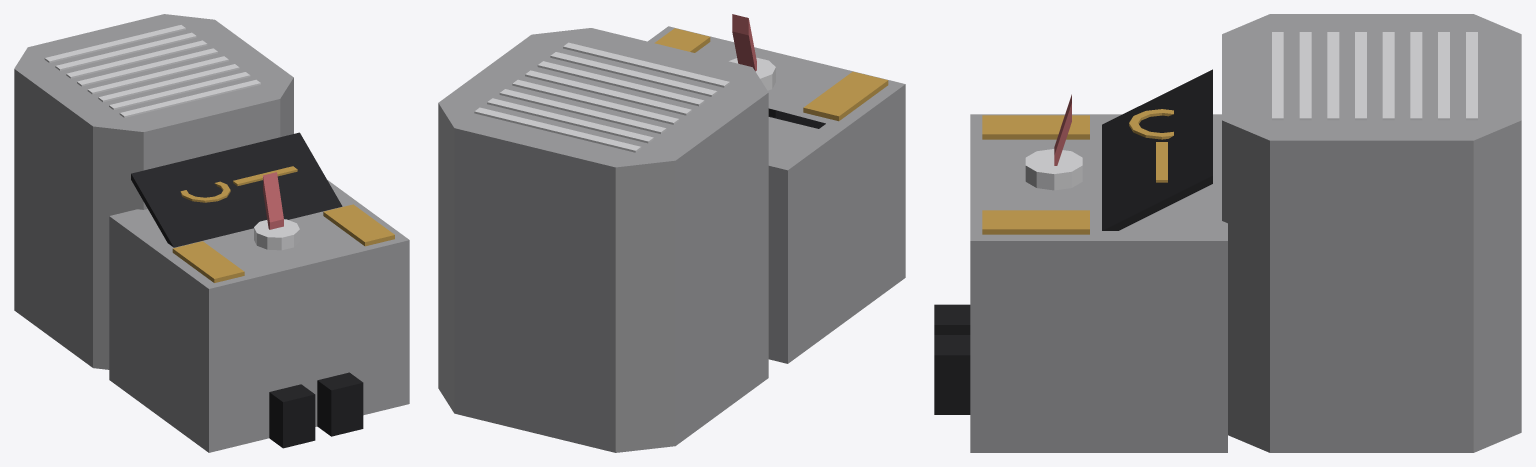
File: vge_pilot_cockpit.obj
3 renders of one model, left to right at view 1: azimuth 30°, elevation 25°; view 2: azimuth 150°, elevation 25°; view 3: azimuth 270°, elevation 25°, orthographic. The views are drawn at different scales.
Parts seen in each view (by area): view 1: vge_pilot_cockpit_9, vge_pilot_cockpit_0, vge_pilot_cockpit_10, vge_pilot_cockpit_17, vge_pilot_cockpit_18, vge_pilot_cockpit_15, vge_pilot_cockpit_16, vge_pilot_cockpit_13, vge_pilot_cockpit_4, vge_pilot_cockpit_5, vge_pilot_cockpit_3, vge_pilot_cockpit_6 (+6 smaller); view 2: vge_pilot_cockpit_0, vge_pilot_cockpit_9, vge_pilot_cockpit_15, vge_pilot_cockpit_3, vge_pilot_cockpit_8, vge_pilot_cockpit_5, vge_pilot_cockpit_6, vge_pilot_cockpit_1, vge_pilot_cockpit_2, vge_pilot_cockpit_4, vge_pilot_cockpit_7, vge_pilot_cockpit_14 (+3 smaller); view 3: vge_pilot_cockpit_0, vge_pilot_cockpit_9, vge_pilot_cockpit_10, vge_pilot_cockpit_18, vge_pilot_cockpit_16, vge_pilot_cockpit_15, vge_pilot_cockpit_13, vge_pilot_cockpit_2, vge_pilot_cockpit_3, vge_pilot_cockpit_5, vge_pilot_cockpit_6, vge_pilot_cockpit_17 (+5 smaller).
Boxes of the visible parts, x1,y1,x2,y2 form: vge_pilot_cockpit_9: (109,180,409,452); vge_pilot_cockpit_0: (14,14,293,369); vge_pilot_cockpit_10: (131,132,342,247); vge_pilot_cockpit_17: (269,384,315,448); vge_pilot_cockpit_18: (317,372,363,436); vge_pilot_cockpit_15: (172,241,244,282); vge_pilot_cockpit_16: (323,204,394,246); vge_pilot_cockpit_13: (254,219,299,250); vge_pilot_cockpit_4: (87,56,228,94); vge_pilot_cockpit_5: (77,48,217,86); vge_pilot_cockpit_3: (98,64,239,102); vge_pilot_cockpit_6: (66,40,207,78); vge_pilot_cockpit_0: (438,28,768,452); vge_pilot_cockpit_9: (648,26,905,363); vge_pilot_cockpit_15: (803,71,888,121); vge_pilot_cockpit_3: (537,61,704,106); vge_pilot_cockpit_8: (474,107,641,152); vge_pilot_cockpit_5: (512,79,679,124); vge_pilot_cockpit_6: (499,89,666,133); vge_pilot_cockpit_1: (563,42,729,87); vge_pilot_cockpit_2: (550,52,717,96); vge_pilot_cockpit_4: (525,70,691,115); vge_pilot_cockpit_7: (487,98,653,143); vge_pilot_cockpit_14: (732,14,756,71); vge_pilot_cockpit_0: (1222,14,1521,452); vge_pilot_cockpit_9: (970,114,1227,452); vge_pilot_cockpit_10: (1102,69,1212,230); vge_pilot_cockpit_18: (934,335,970,414); vge_pilot_cockpit_16: (982,210,1089,234); vge_pilot_cockpit_15: (982,115,1089,139); vge_pilot_cockpit_13: (1025,149,1082,190); vge_pilot_cockpit_2: (1299,32,1311,120); vge_pilot_cockpit_3: (1327,32,1339,120); vge_pilot_cockpit_5: (1382,32,1394,120); vge_pilot_cockpit_6: (1410,32,1422,120); vge_pilot_cockpit_17: (934,304,970,334).
Size of the model in its own units: 1 by 1.16 by 1.96.
